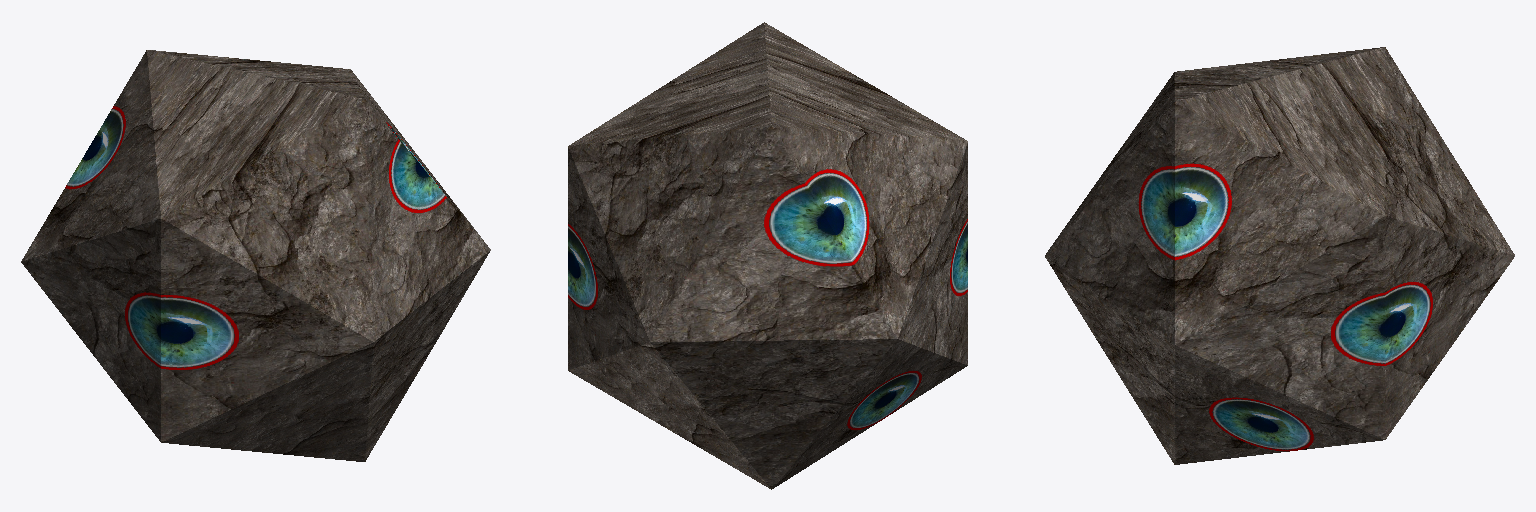
The picture shows the model from 3 angles: view 1: azimuth 30°, elevation 25°; view 2: azimuth 150°, elevation 25°; view 3: azimuth 270°, elevation 25°; orthographic projection.
Parts seen in each view (by area): view 1: pPlatonic1; view 2: pPlatonic1; view 3: pPlatonic1.
Part boxes in pixels (x1,y1,x2,y2): pPlatonic1: (21, 50, 490, 461); pPlatonic1: (568, 22, 967, 489); pPlatonic1: (1045, 47, 1514, 464).
Size of the model in its own units: 1.79 by 1.7 by 2.
Materials: 1 (1 with a texture image).